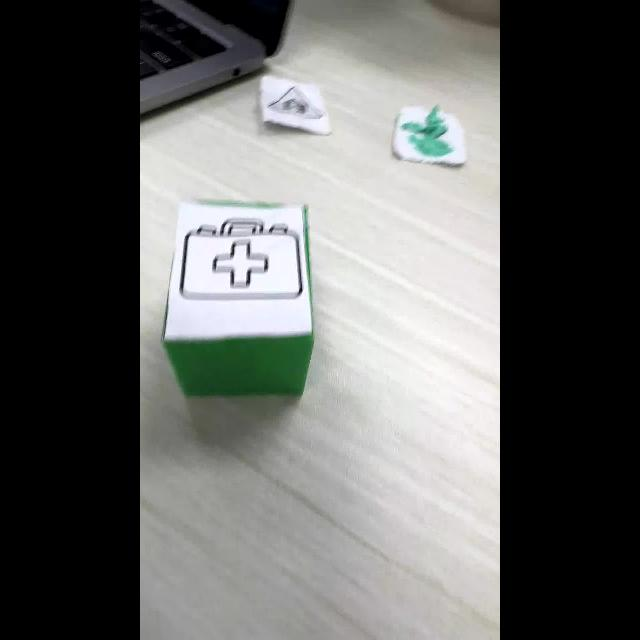Medkit: (180, 223, 304, 300)
